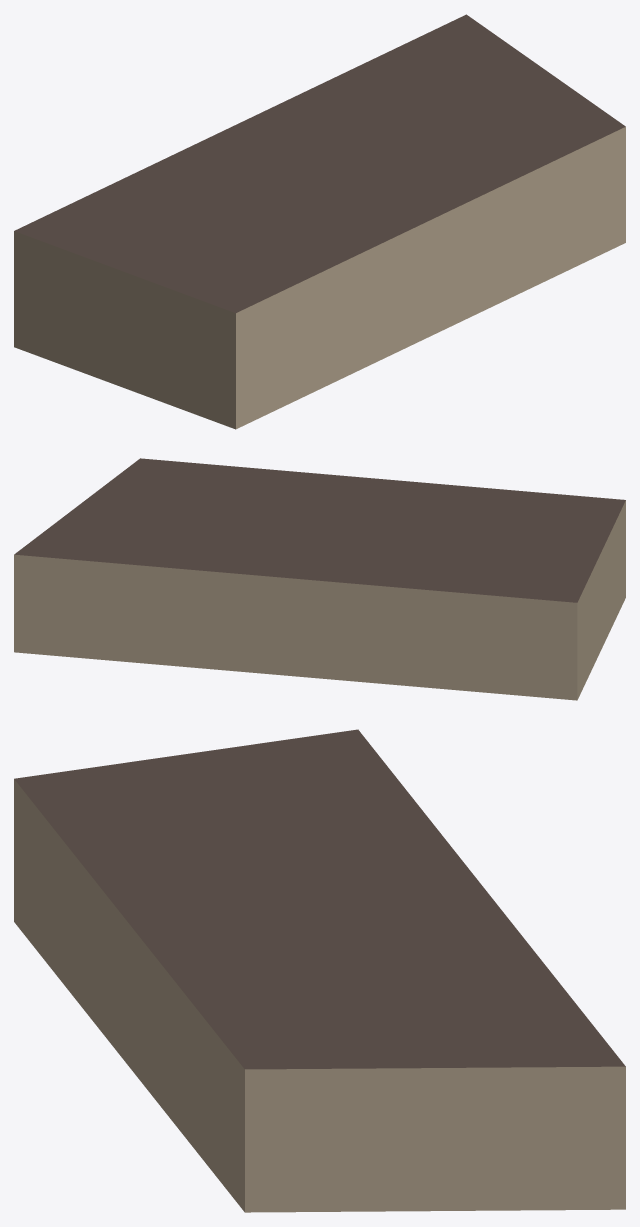
The picture shows the model from 3 angles, top to bottom: view 1: azimuth 30°, elevation 25°; view 2: azimuth 150°, elevation 25°; view 3: azimuth 270°, elevation 25°; orthographic projection. The views are drawn at different scales.
Parts seen in each view (by area): view 1: HP-w859467732; view 2: HP-w859467732; view 3: HP-w859467732.
Part boxes in pixels (<box>): HP-w859467732: <box>14,14,625,429</box>; HP-w859467732: <box>14,458,625,700</box>; HP-w859467732: <box>14,729,625,1212</box>.
Size of the model in its own units: 45.87 by 9 by 34.89.
